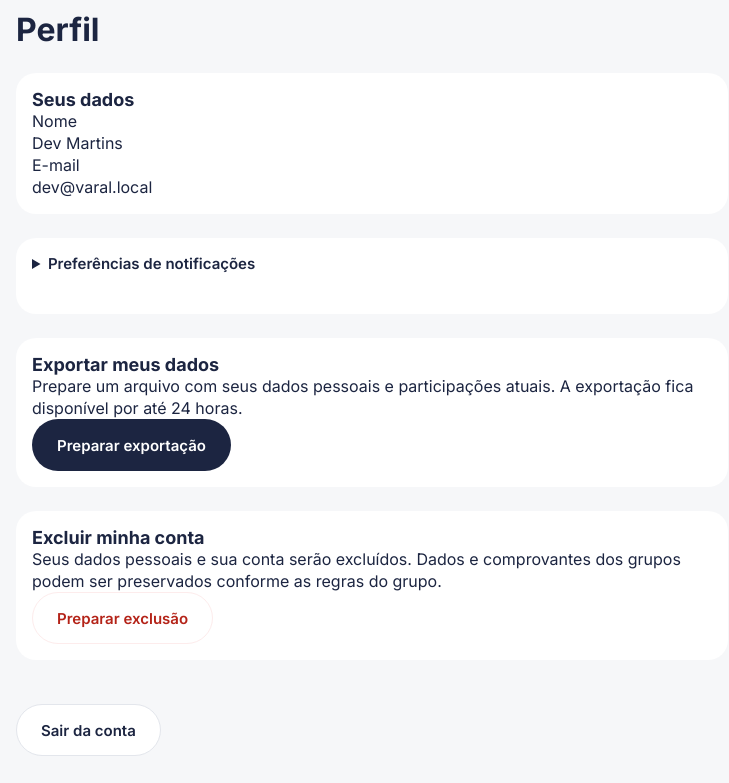
Test: usuário sem senha solicita código para endereço próprio verificado
This screenshot has width=729, height=783.
Click the button "Preparar exportação" at (131, 445), box [32,419,231,471]
(page scrolled)
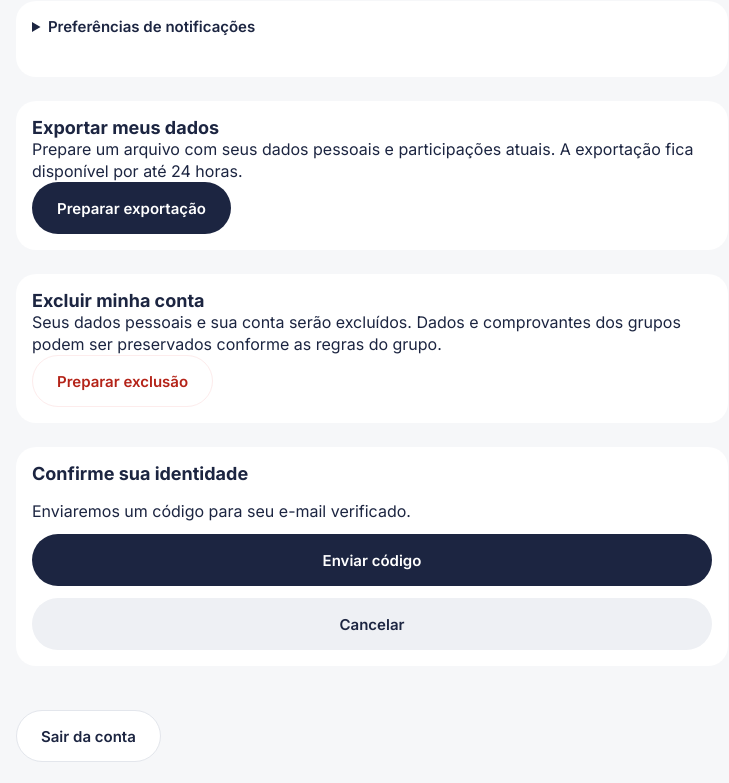
Click the button "Enviar código" at (372, 560), box [32,534,712,586]
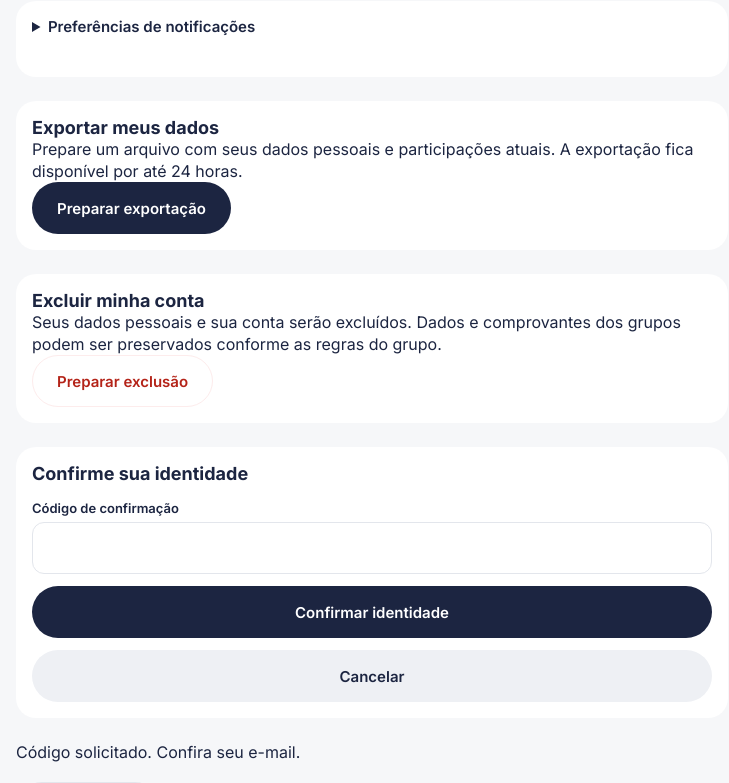
Check: the field labelled "Código de confirmação" is shown, box [49,523,695,573]
